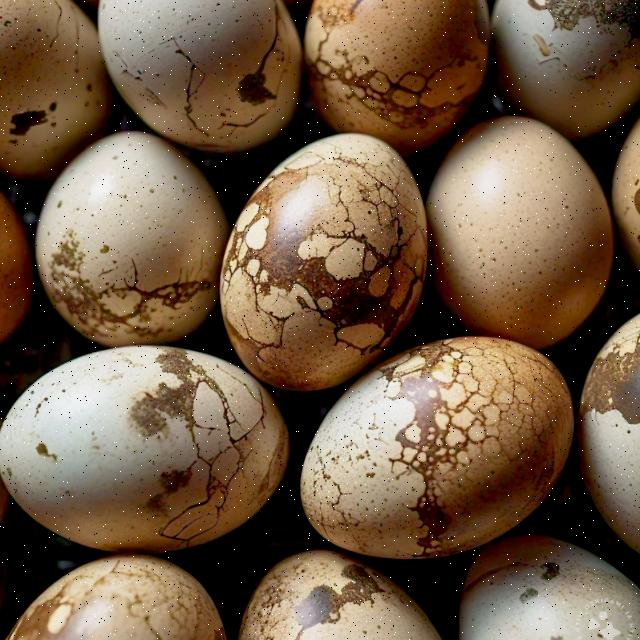Blood Stained Egg: (290, 332, 576, 555), (0, 332, 284, 546), (212, 123, 424, 370), (39, 142, 221, 343), (112, 0, 303, 153), (293, 0, 491, 144), (228, 545, 475, 640), (482, 0, 640, 136), (451, 538, 640, 640), (569, 289, 640, 559), (0, 563, 247, 640), (1, 0, 79, 153), (607, 90, 640, 300)
Brown Egg: (421, 116, 614, 353)
